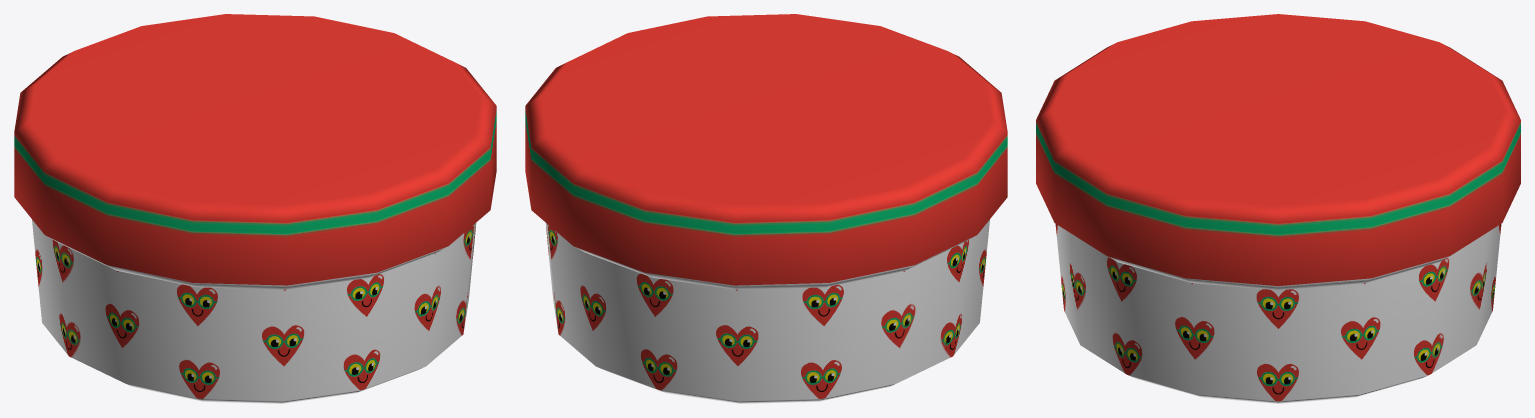
Rendered from giftbox_063.fbx.
The picture shows the model from 3 angles, left to right: view 1: azimuth 30°, elevation 25°; view 2: azimuth 150°, elevation 25°; view 3: azimuth 270°, elevation 25°; orthographic projection.
Parts seen in each view (by area): view 1: giftbox_063; view 2: giftbox_063; view 3: giftbox_063.
Part boxes in pixels (box(x1,y1,x2,y2)): giftbox_063: box(14, 14, 496, 403); giftbox_063: box(525, 14, 1007, 403); giftbox_063: box(1036, 14, 1520, 403).
Bounding box in the file's own units: 262 × 262 × 125.
